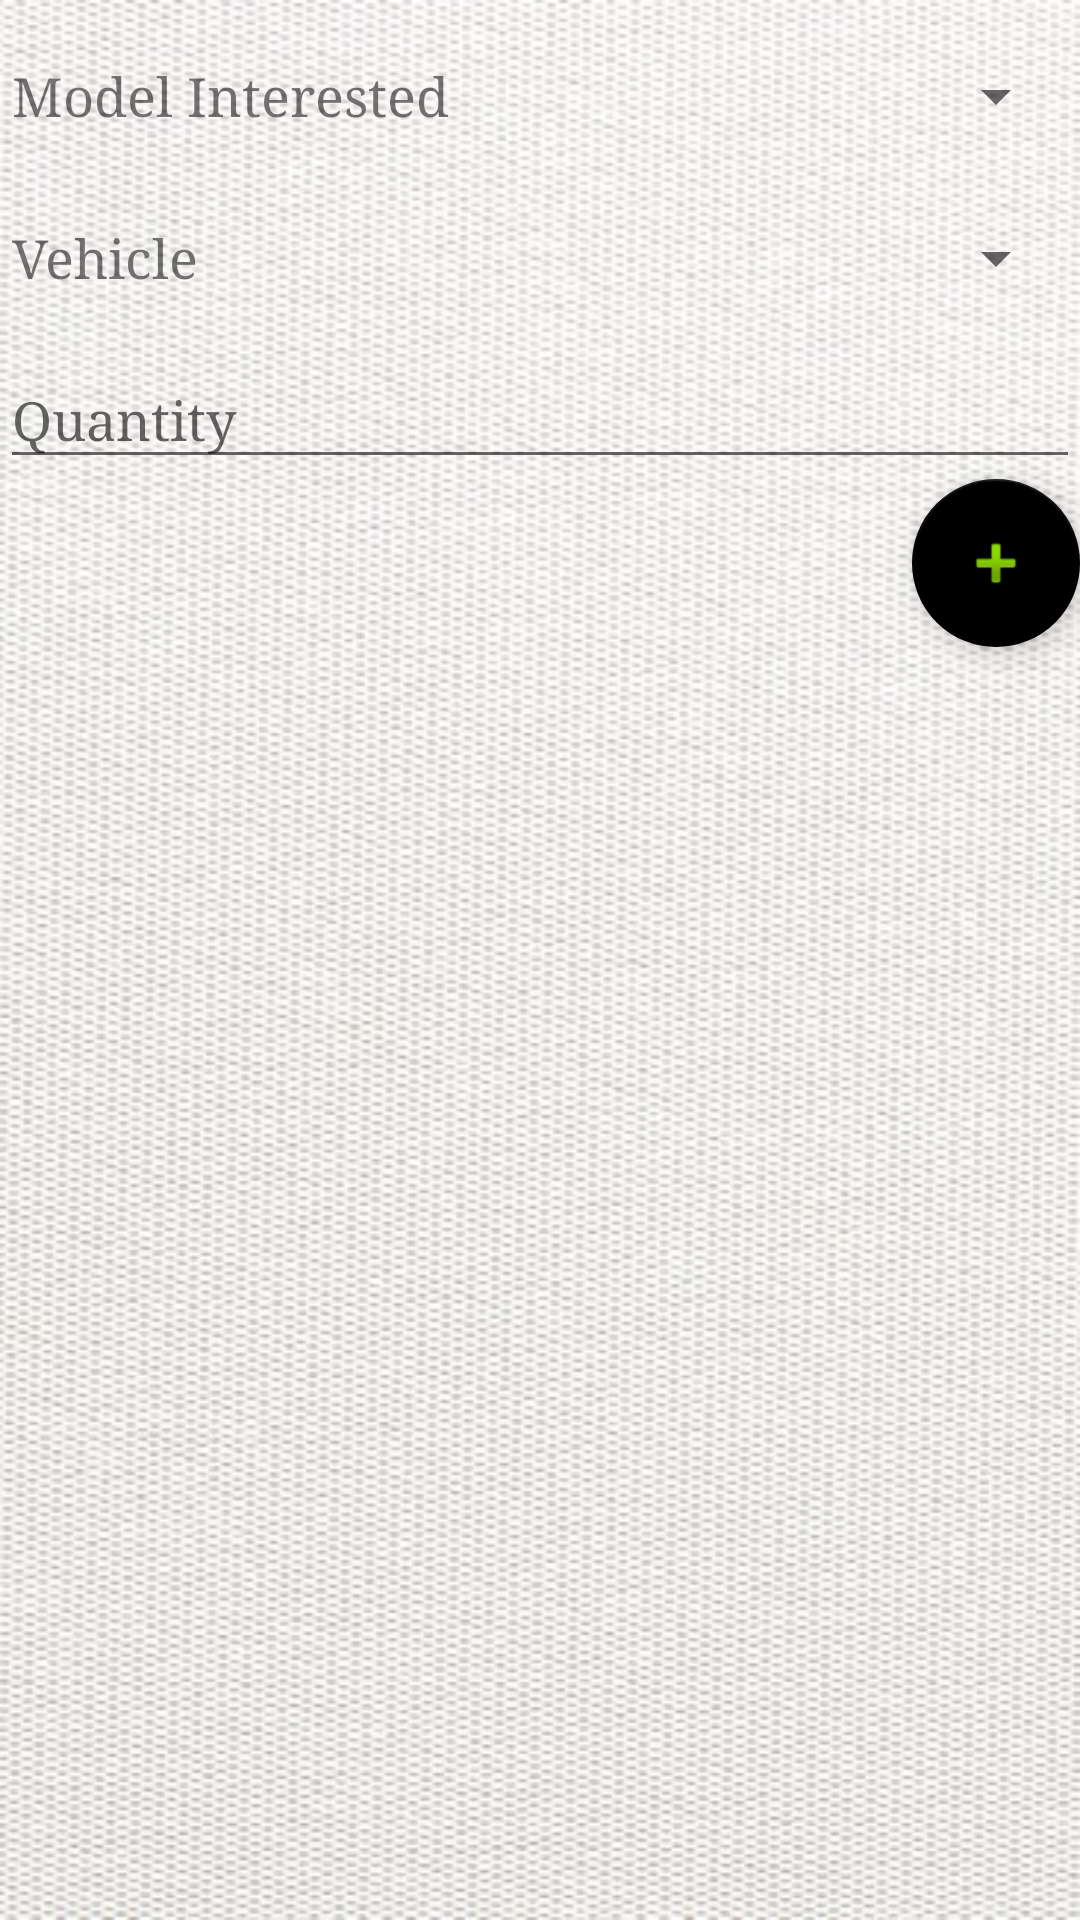

Named icons in this screenshot (1080 x 1920) and their bounding boxes, (x1, y1, x2, y2):
add: (912, 479, 1080, 647)
